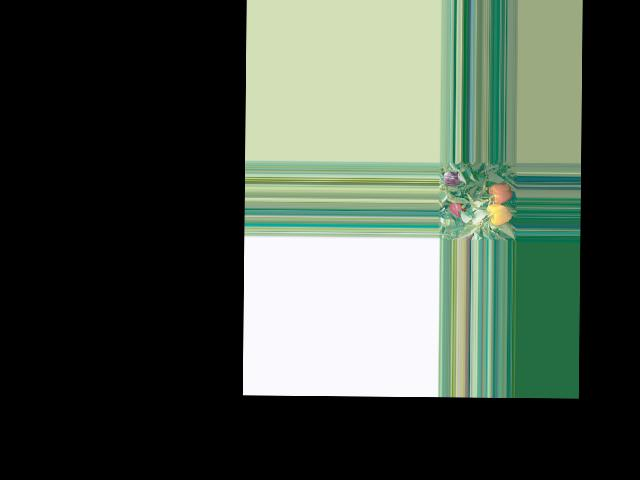bell_pepper: (485, 198, 511, 225)
